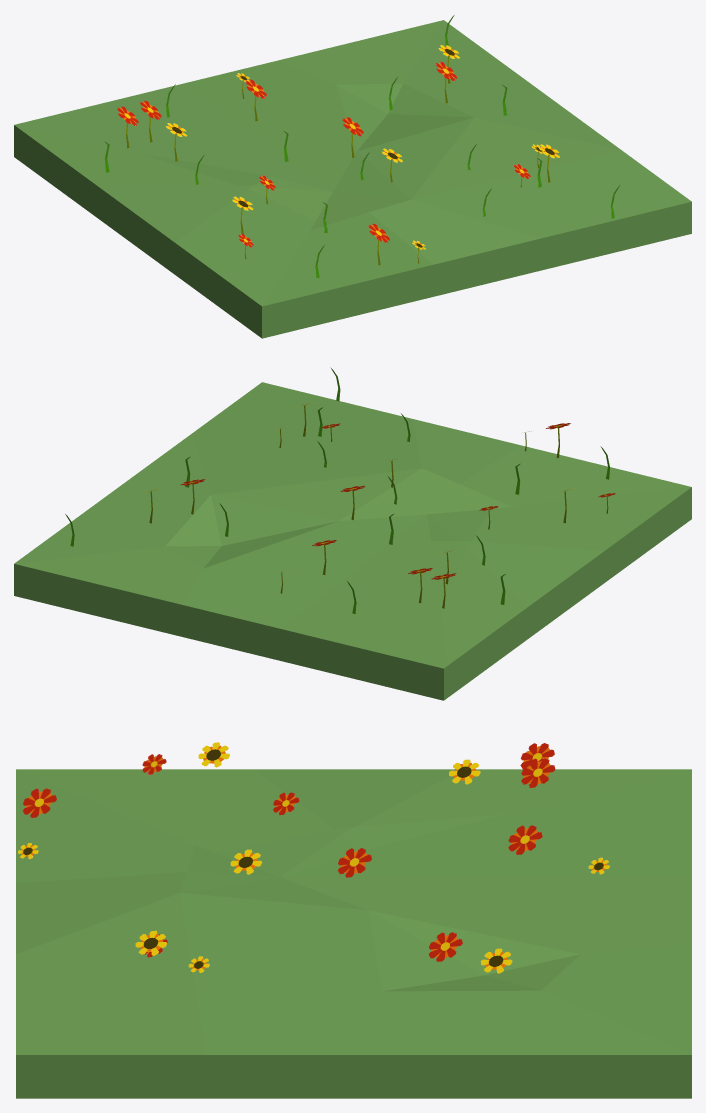
File: Flower_Location.fbx
The picture shows the model from 3 angles, top to bottom: view 1: azimuth 30°, elevation 25°; view 2: azimuth 150°, elevation 25°; view 3: azimuth 270°, elevation 25°; orthographic projection. The views are drawn at different scales.
Parts seen in each view (by area): view 1: Cube; view 2: Cube; view 3: Cube, уццупцуп.004, уццупцуп.005, уццупцуп.007, уццупцуп, уццупцуп.002.
Boxes of the visible parts, x1,y1,x2,y2 form: Cube: (14, 20, 691, 338); Cube: (14, 382, 691, 700); Cube: (16, 769, 691, 1098); уццупцуп.004: (521, 758, 555, 787); уццупцуп.005: (22, 788, 56, 817); уццупцуп.007: (428, 932, 462, 961); уццупцуп: (338, 848, 371, 877); уццупцуп.002: (508, 825, 542, 854).
Size of the model in its own units: 1400 by 238 by 1404.
